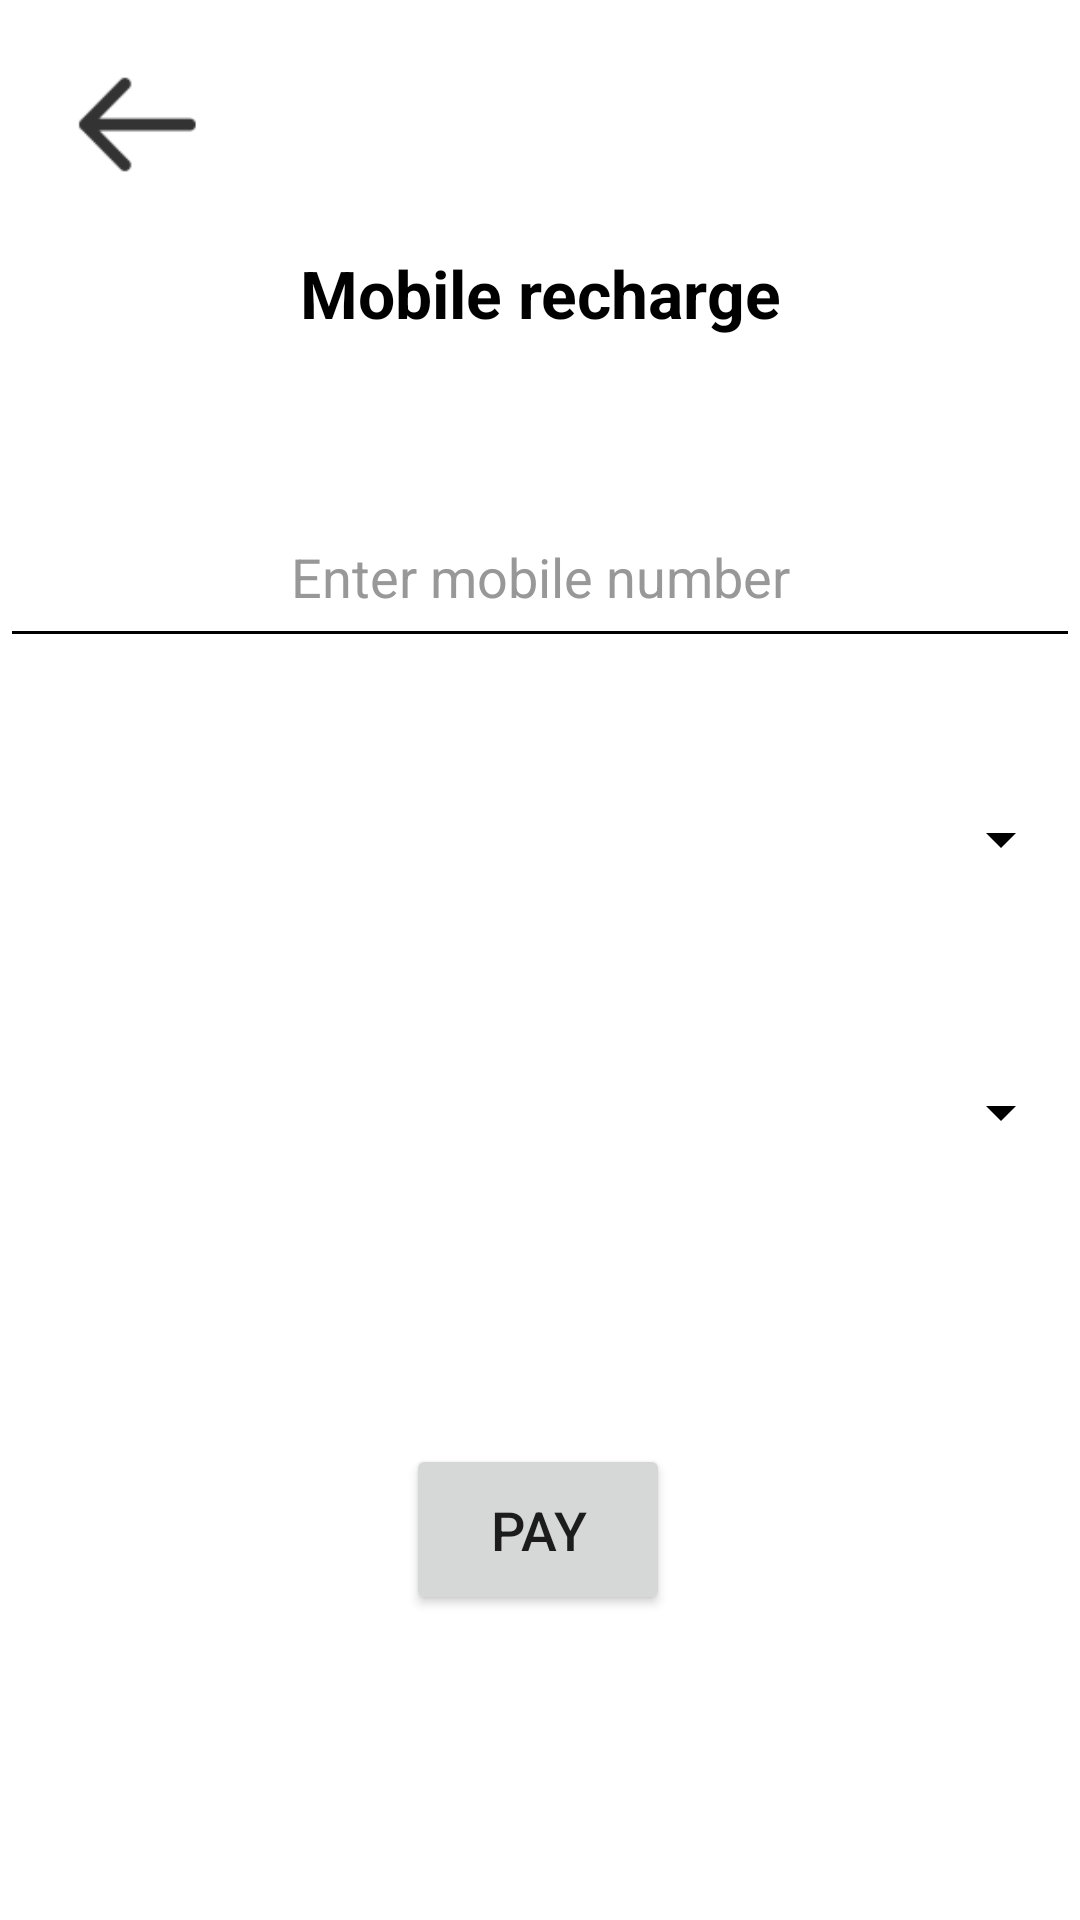

Icon click points for this 1080×1920 phone screenshot, format (x,y):
back arrow: (137,124)
